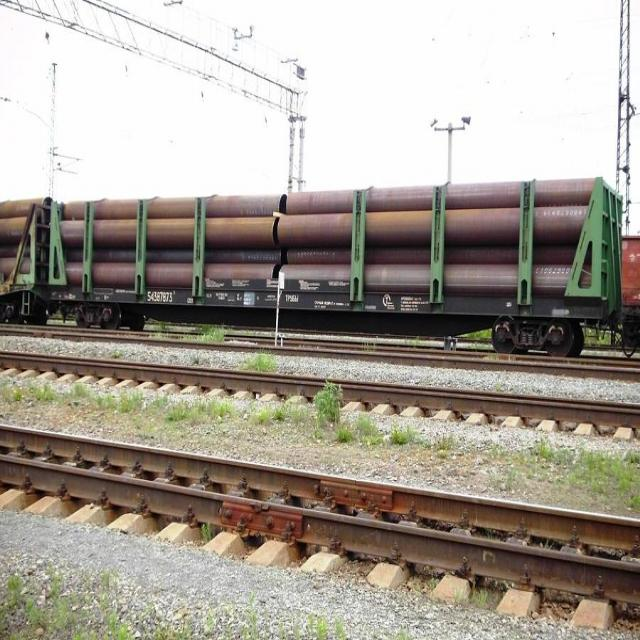cargo: (52, 164, 619, 290)
flatcar: (48, 279, 621, 359)
